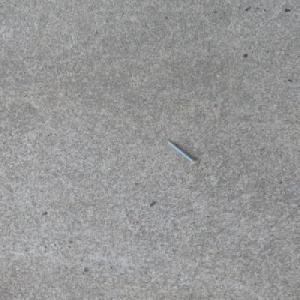Screw: (164, 139, 199, 165)
